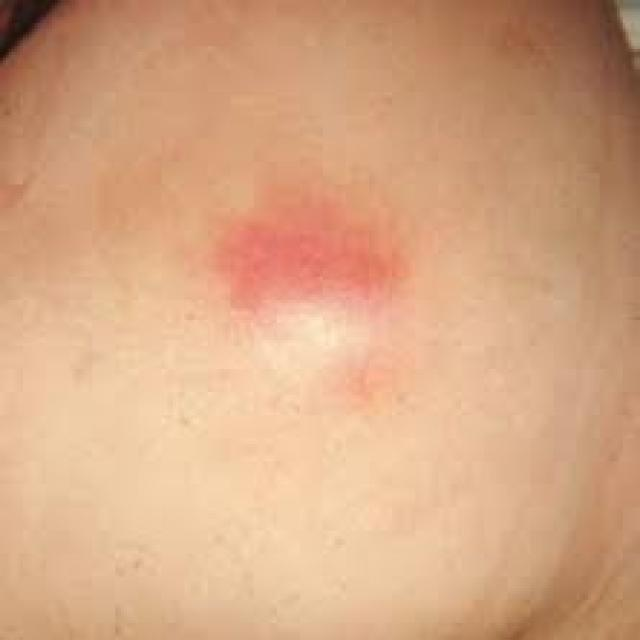stage-1: (219, 222, 395, 303)
